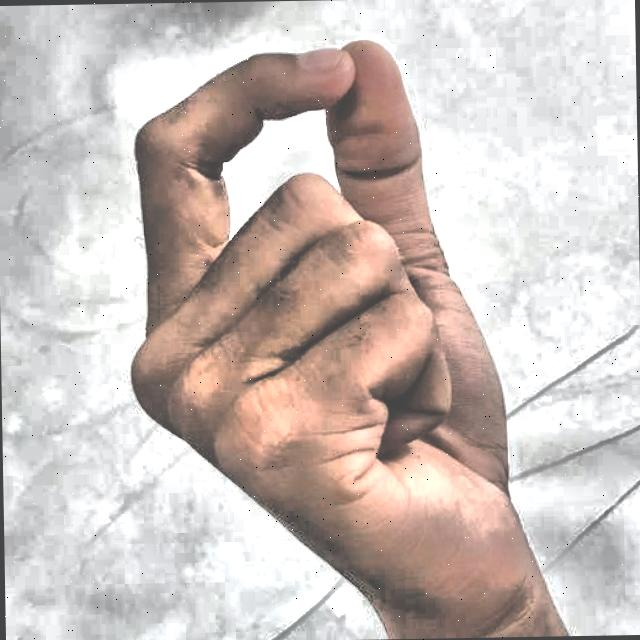Gha: (81, 17, 589, 640)
